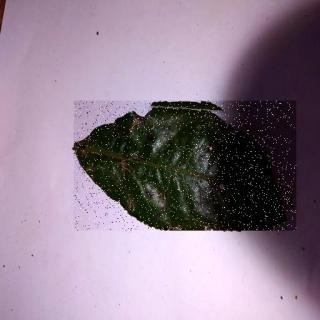Bird Eye Spot: (75, 102, 297, 232)
